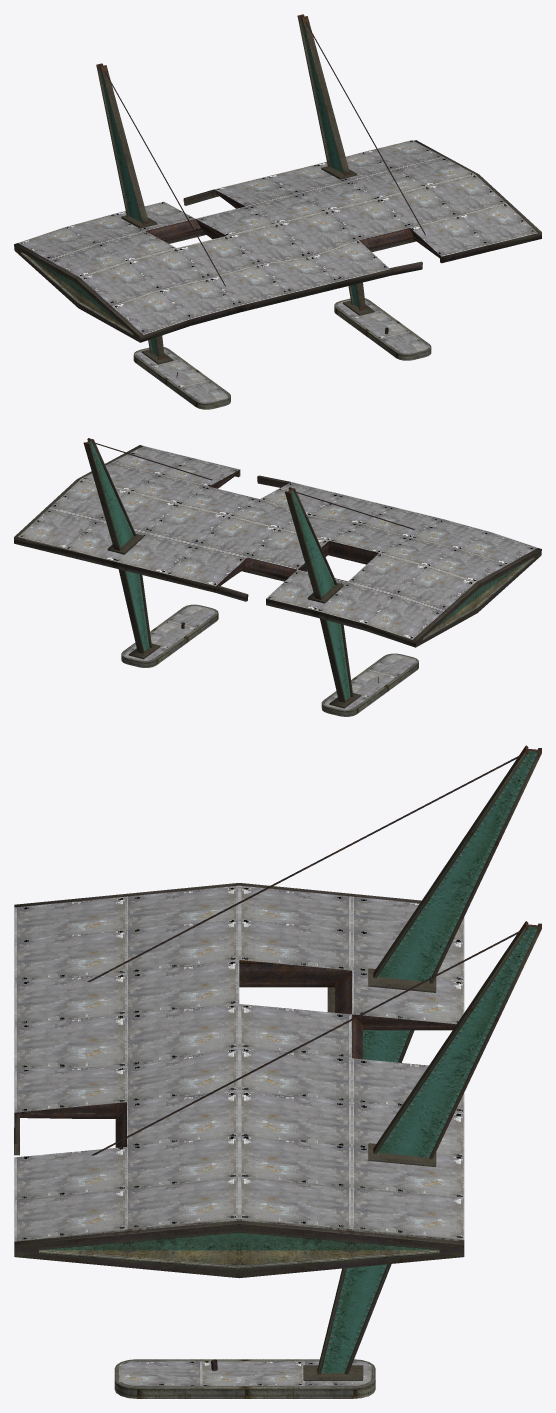
File: GasStationRoof.obj
3 views of the same model, one above another, from view 1: azimuth 30°, elevation 25°; view 2: azimuth 150°, elevation 25°; view 3: azimuth 270°, elevation 25° (orthographic). The views are drawn at different scales.
Parts seen in each view (by area): view 1: GasStationRoof:__PrenotatoPerDuplicare_3, GasStationRoof:__PrenotatoPerDuplicare_0; view 2: GasStationRoof:__PrenotatoPerDuplicare_3, GasStationRoof:__PrenotatoPerDuplicare_0; view 3: GasStationRoof:__PrenotatoPerDuplicare_3, GasStationRoof:__PrenotatoPerDuplicare_0.
Boxes of the visible parts, x1,y1,x2,y2 form: GasStationRoof:__PrenotatoPerDuplicare_3: [18, 140, 537, 403]; GasStationRoof:__PrenotatoPerDuplicare_0: [14, 14, 541, 409]; GasStationRoof:__PrenotatoPerDuplicare_3: [18, 446, 537, 710]; GasStationRoof:__PrenotatoPerDuplicare_0: [14, 438, 541, 716]; GasStationRoof:__PrenotatoPerDuplicare_3: [14, 885, 464, 1386]; GasStationRoof:__PrenotatoPerDuplicare_0: [14, 745, 541, 1398].
Size of the model in its own units: 1301 by 795 by 825.
